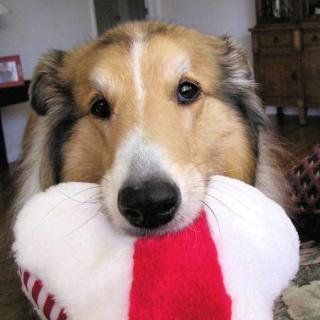dog: (20, 19, 281, 252)
nose: (112, 172, 182, 235)
